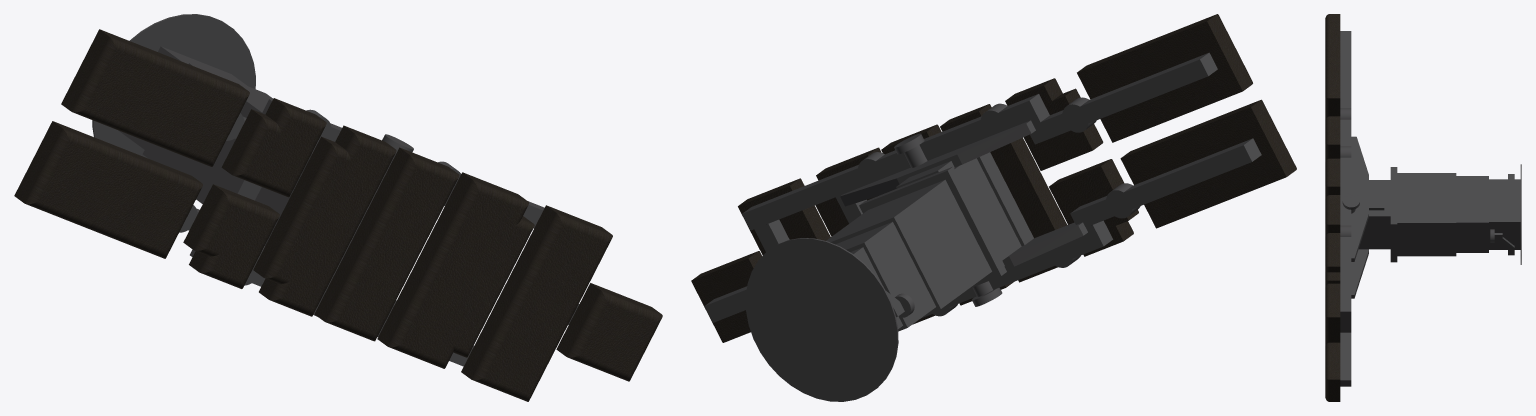
The model's file is OP-Tisch.obj.
3 views of the same model, side by side, from view 1: azimuth 30°, elevation 25°; view 2: azimuth 150°, elevation 25°; view 3: azimuth 270°, elevation 25° (orthographic). The views are drawn at different scales.
Parts seen in each view (by area): view 1: 0_MT_EINRICHTUNG LEDER__SCHWARZ FLAT_PART, 0_MT_EINRICHTUNG LEDER__SCHWARZ SMOOTH_PART, 0_MT_EINRICHTUNG STAHL__ROSTFREI FLAT_PART; view 2: 0_MT_EINRICHTUNG STAHL__ROSTFREI FLAT_PART, 0_MT_EINRICHTUNG LEDER__SCHWARZ FLAT_PART, 0_MT_EINRICHTUNG STAHL__ROSTFREI SMOOTH_PART, 0_MT_EINRICHTUNG LEDER__SCHWARZ SMOOTH_PART; view 3: 0_MT_EINRICHTUNG STAHL__ROSTFREI FLAT_PART, 0_MT_EINRICHTUNG LEDER__SCHWARZ FLAT_PART, 0_MT_EINRICHTUNG LEDER__SCHWARZ SMOOTH_PART, 0_MT_EINRICHTUNG STAHL__ROSTFREI SMOOTH_PART.
Boxes of the visible parts, x1=… form: 0_MT_EINRICHTUNG LEDER__SCHWARZ FLAT_PART: x1=14, y1=29, x2=660, y2=394; 0_MT_EINRICHTUNG LEDER__SCHWARZ SMOOTH_PART: x1=24, y1=36, x2=662, y2=401; 0_MT_EINRICHTUNG STAHL__ROSTFREI FLAT_PART: x1=93, y1=14, x2=579, y2=366; 0_MT_EINRICHTUNG STAHL__ROSTFREI FLAT_PART: x1=704, y1=52, x2=1261, y2=401; 0_MT_EINRICHTUNG LEDER__SCHWARZ FLAT_PART: x1=691, y1=14, x2=1295, y2=342; 0_MT_EINRICHTUNG STAHL__ROSTFREI SMOOTH_PART: x1=777, y1=97, x2=1140, y2=387; 0_MT_EINRICHTUNG LEDER__SCHWARZ SMOOTH_PART: x1=726, y1=14, x2=1296, y2=263; 0_MT_EINRICHTUNG STAHL__ROSTFREI FLAT_PART: x1=1340, y1=31, x2=1520, y2=386; 0_MT_EINRICHTUNG LEDER__SCHWARZ FLAT_PART: x1=1329, y1=14, x2=1340, y2=401; 0_MT_EINRICHTUNG LEDER__SCHWARZ SMOOTH_PART: x1=1325, y1=14, x2=1329, y2=401; 0_MT_EINRICHTUNG STAHL__ROSTFREI SMOOTH_PART: x1=1340, y1=108, x2=1521, y2=264.
Bounding box in the file's own units: 181 × 128 × 90.
